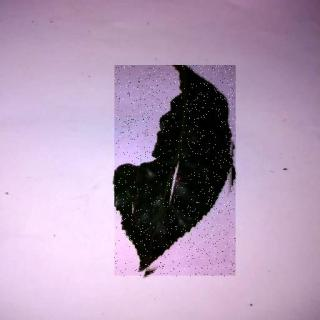Bird Eye Spot: (116, 67, 237, 278)
